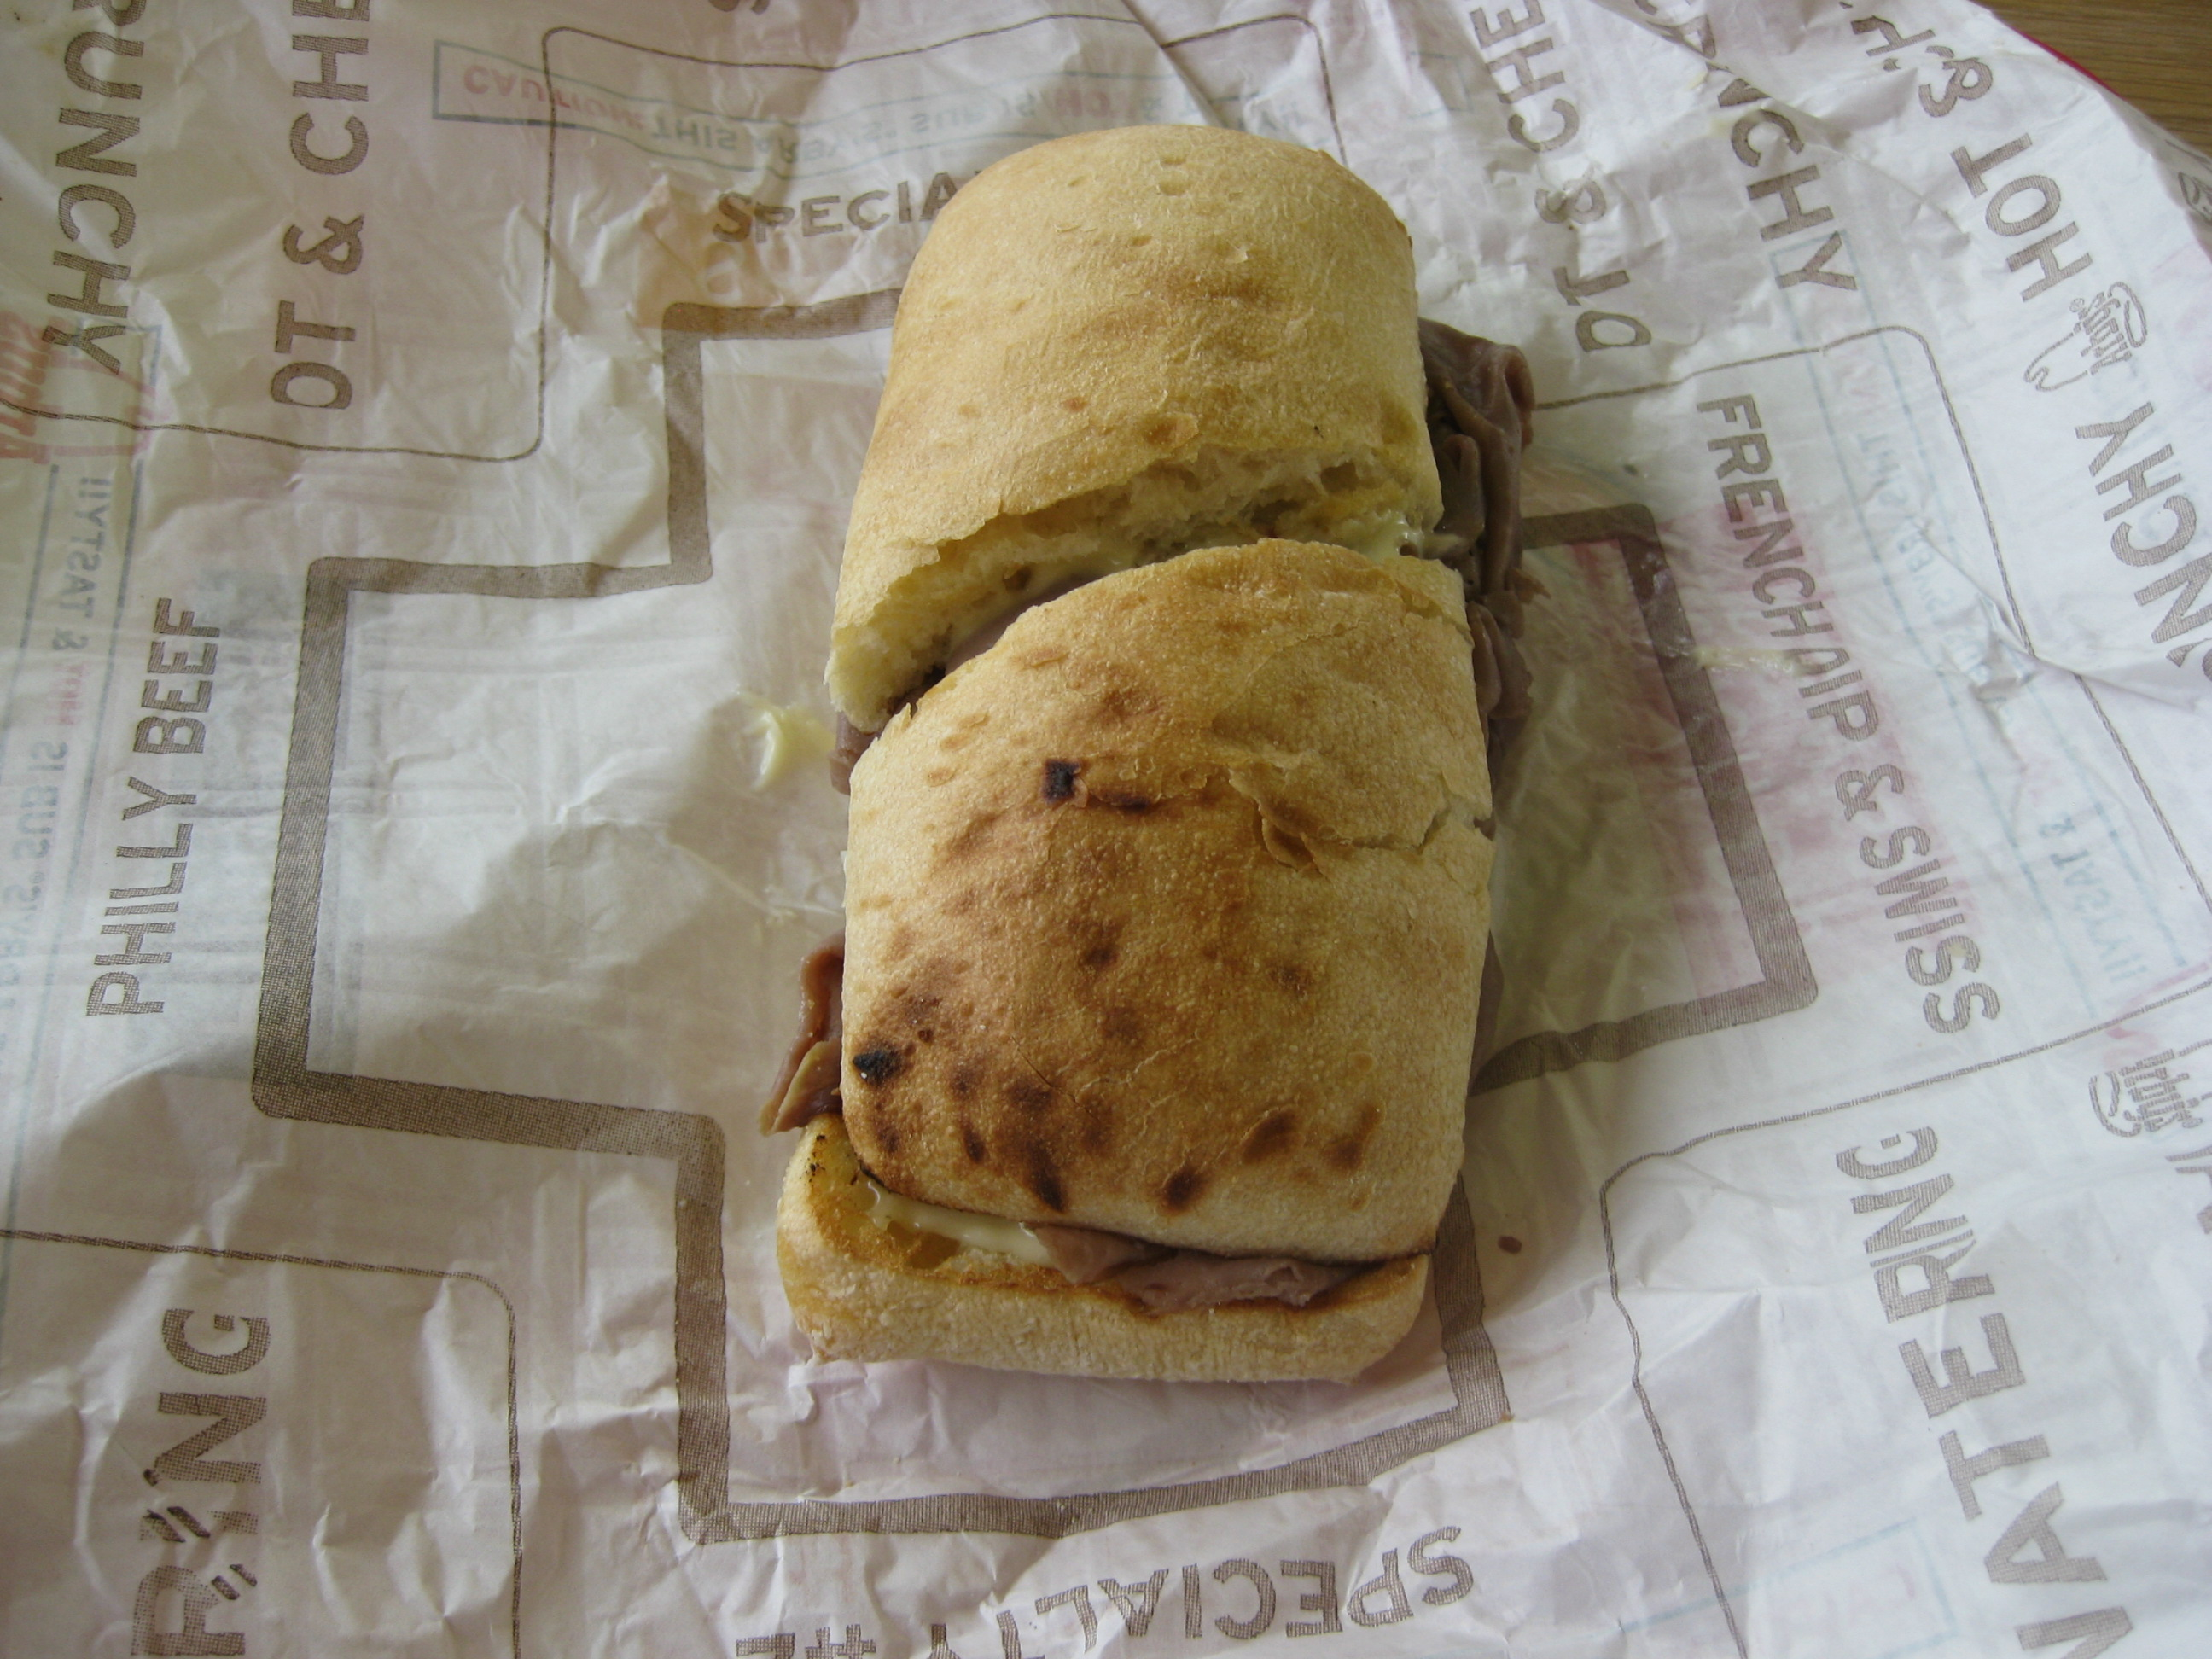sub: (774, 84, 1546, 1418)
